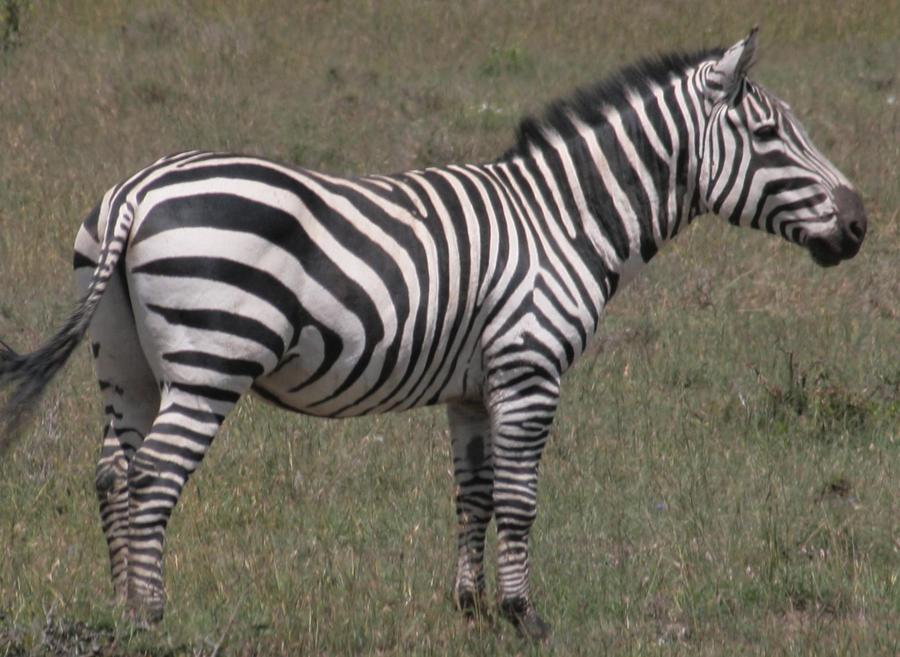zebra_plains: (112, 113, 606, 456)
